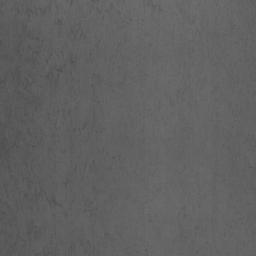Silk spot: (0, 0, 125, 256), (90, 0, 163, 27), (54, 19, 86, 40), (170, 87, 197, 106)
